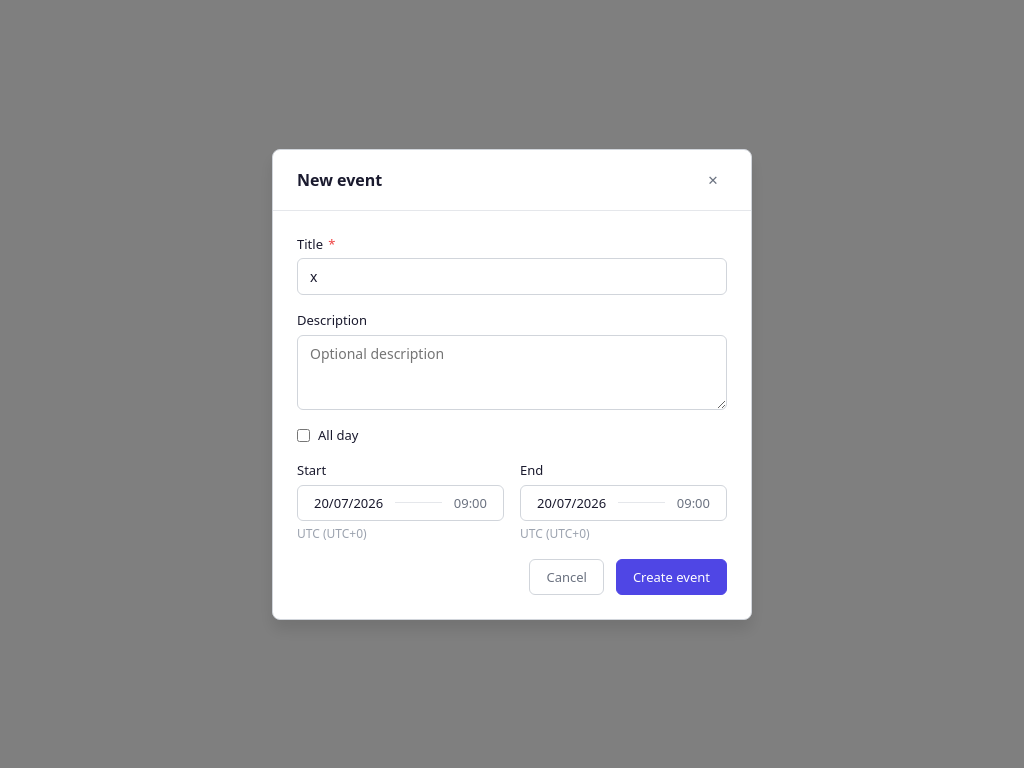
Test case: EventDialog — validation › rejects timed end not after start and shows alert
Replace the text in the field labelled "Title *" with "Meeting" at {"x": 512, "y": 276}, box top-left (297, 258), bottom-right (727, 295)
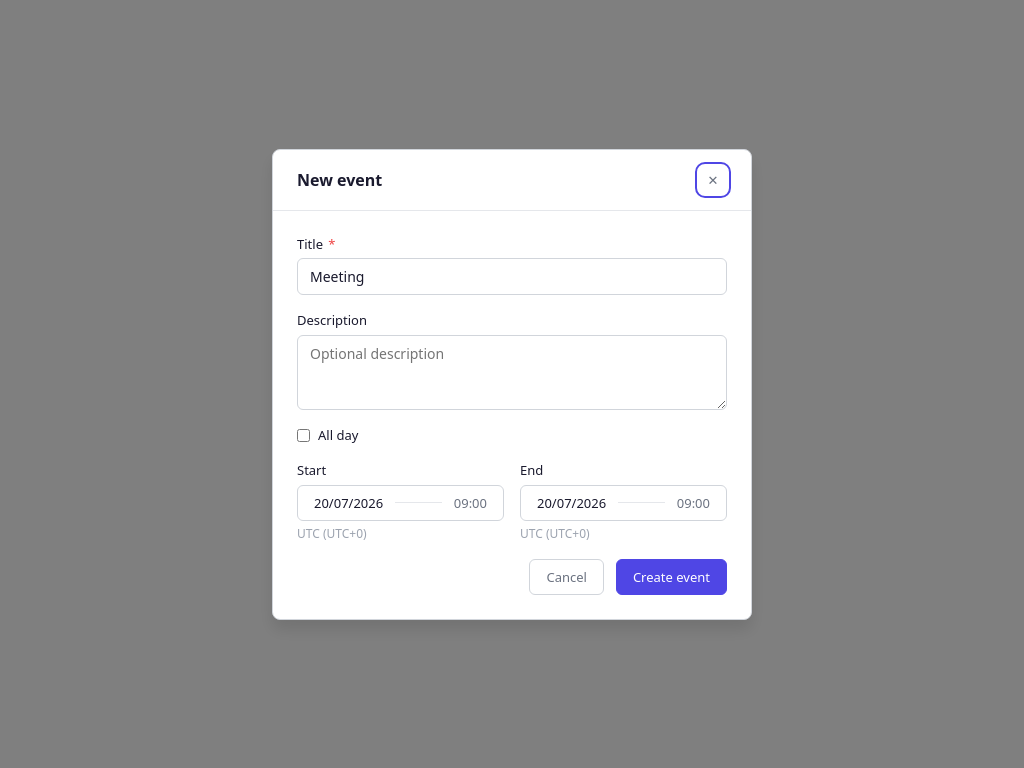
Submit the form, box top-left (297, 234), bottom-right (727, 594)
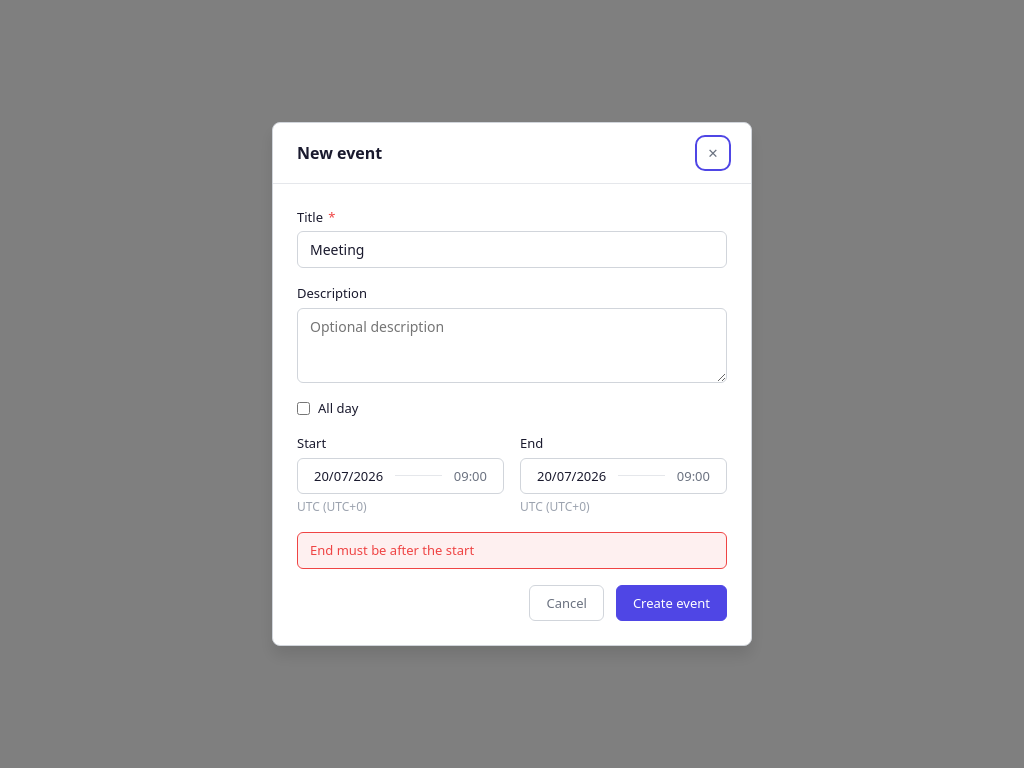
expect the message shows "End": met, box top-left (310, 541), bottom-right (474, 559)
